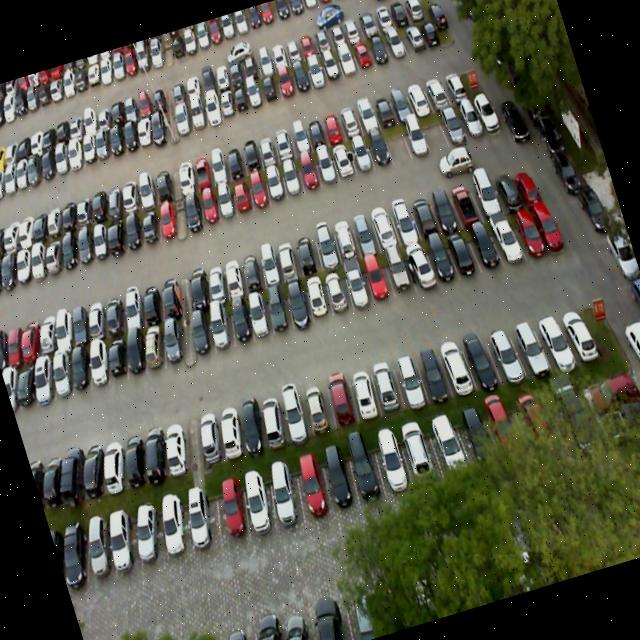empty: (152, 494, 205, 564), (101, 513, 153, 579), (74, 520, 126, 585), (178, 488, 228, 554), (262, 470, 312, 533), (506, 312, 553, 379), (551, 294, 599, 359), (230, 392, 278, 456), (344, 446, 391, 511), (206, 481, 255, 542), (290, 459, 338, 521), (530, 303, 574, 368), (70, 439, 116, 501), (52, 528, 100, 586), (484, 318, 526, 383), (320, 452, 362, 516), (199, 296, 242, 358), (94, 327, 138, 387), (90, 436, 134, 496), (436, 337, 479, 398), (113, 430, 157, 489), (320, 369, 361, 432), (460, 328, 503, 388), (112, 318, 154, 379), (253, 388, 296, 447), (276, 384, 318, 444), (134, 423, 177, 481), (366, 354, 406, 416), (132, 318, 173, 378), (238, 284, 278, 344), (210, 400, 251, 458), (156, 421, 198, 477), (298, 376, 337, 436), (78, 332, 118, 390), (152, 312, 191, 371), (389, 347, 428, 406), (414, 343, 453, 402), (507, 200, 548, 256), (218, 294, 258, 351), (342, 363, 382, 420), (183, 304, 219, 364), (446, 172, 485, 227), (463, 218, 502, 272), (190, 411, 228, 464), (406, 184, 443, 238), (282, 277, 318, 331), (445, 227, 480, 280), (261, 284, 295, 338), (96, 288, 134, 336), (469, 166, 504, 218), (300, 272, 335, 324), (403, 240, 438, 292), (388, 193, 422, 246), (132, 200, 168, 250), (490, 162, 526, 212), (422, 234, 458, 284), (115, 284, 152, 332), (368, 197, 402, 249), (428, 180, 462, 232), (341, 260, 375, 312), (382, 244, 416, 296), (487, 215, 522, 265), (80, 295, 118, 341), (100, 211, 135, 260), (117, 206, 152, 255), (452, 93, 488, 140), (346, 208, 381, 256), (134, 280, 172, 324), (362, 252, 394, 304), (309, 220, 342, 270), (156, 274, 191, 320), (252, 240, 287, 286), (84, 215, 118, 262), (150, 198, 184, 244), (196, 260, 230, 306), (272, 234, 306, 280), (175, 188, 208, 235), (324, 265, 354, 316), (235, 248, 268, 292), (180, 268, 214, 310), (218, 252, 250, 296), (290, 230, 322, 274), (420, 106, 450, 152), (330, 218, 361, 262), (244, 169, 274, 214), (212, 179, 241, 225), (227, 172, 256, 218), (312, 144, 342, 188), (195, 184, 224, 228), (402, 116, 432, 158), (436, 104, 467, 144), (277, 160, 305, 200), (348, 134, 376, 174), (366, 129, 394, 169), (332, 139, 358, 182), (383, 122, 411, 160), (262, 166, 288, 204), (296, 152, 322, 190)
occupied: (124, 504, 180, 572), (235, 476, 284, 536)
